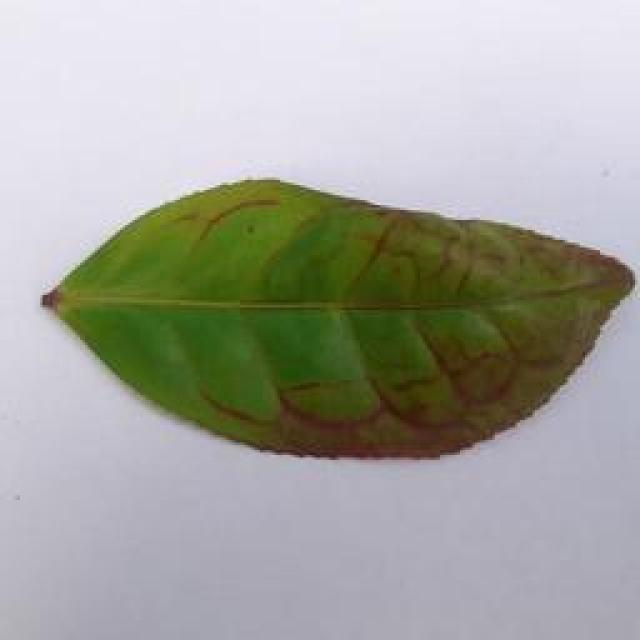Red Leaf Spot: (40, 165, 640, 467)
